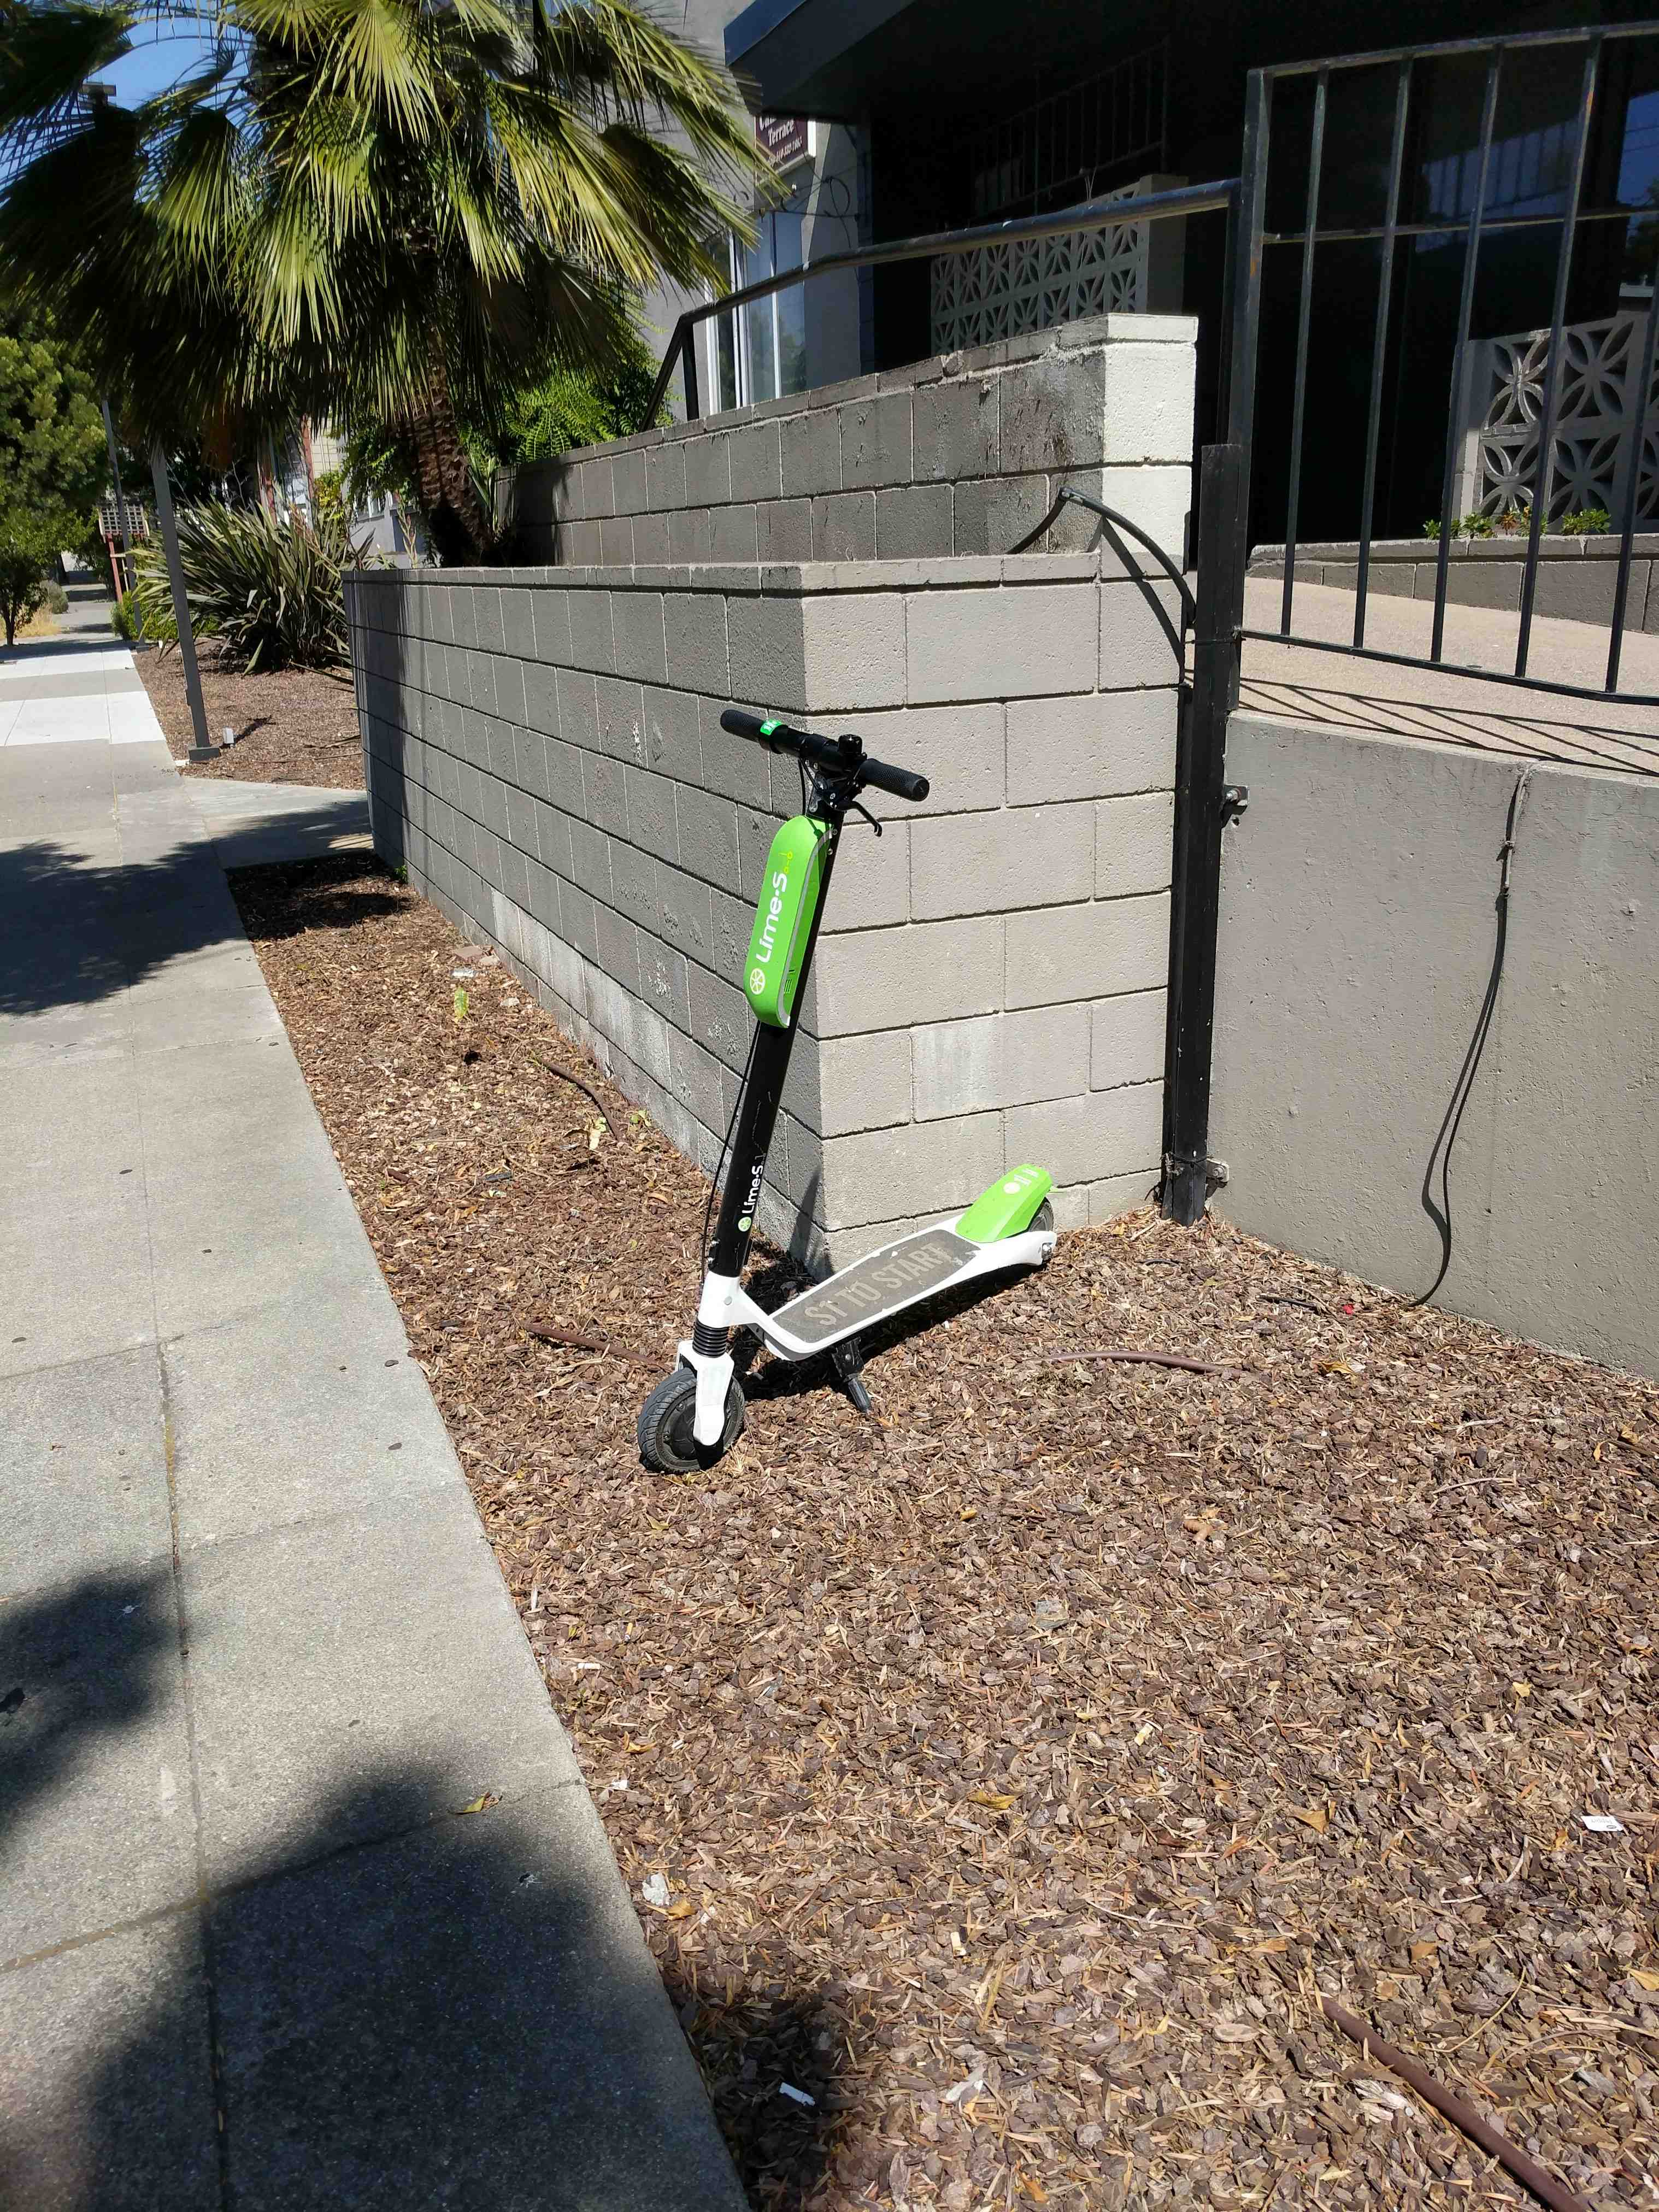scooter: (619, 678, 1195, 1487)
